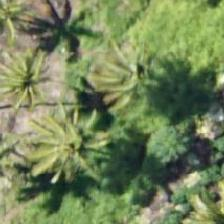coconut_tree: (91, 36, 181, 126), (32, 103, 122, 193)
